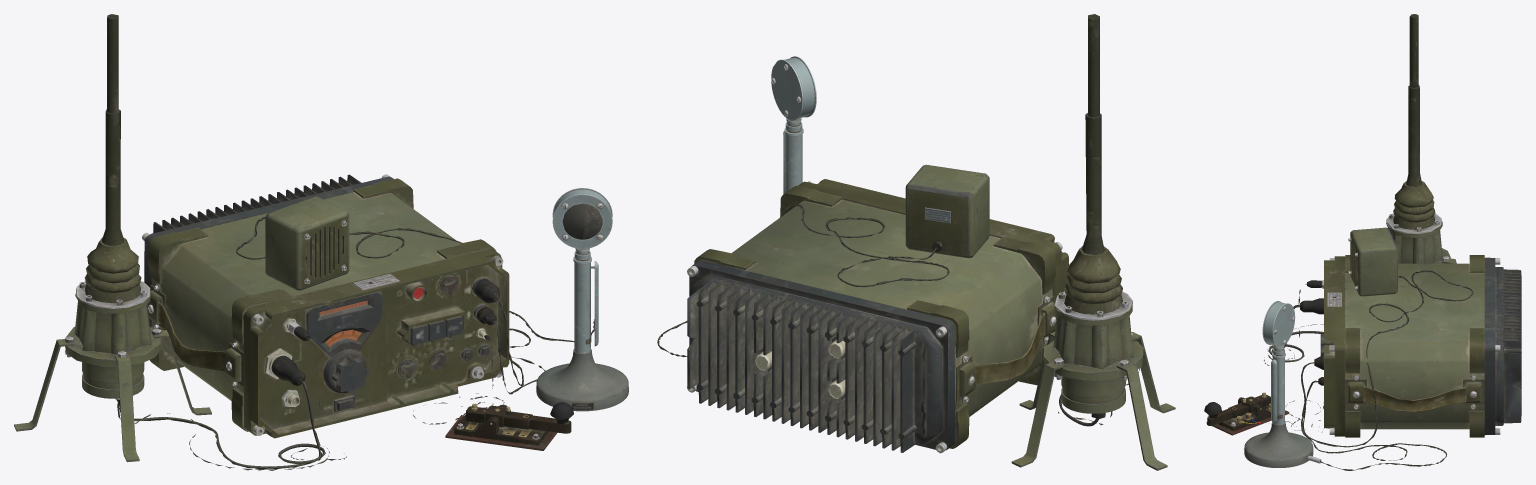
Rendered from vintage_radio_transceiver.glb.
3 views of the same model, side by side, from view 1: azimuth 30°, elevation 25°; view 2: azimuth 150°, elevation 25°; view 3: azimuth 270°, elevation 25° (orthographic). The views are drawn at different scales.
Visible parts, largest first — view 1: vintage_radio_transceiver, vintage_radio_transceiver_antenna, vintage_radio_transceiver_microphone, vintage_radio_transceiver_speaker, vintage_radio_transceiver_cables, vintage_radio_transceiver_morse_key_base, vintage_radio_transceiver_morse_key_arm, vintage_radio_transceiver_dial, vintage_radio_transceiver_antenna_plug_a; view 2: vintage_radio_transceiver, vintage_radio_transceiver_antenna, vintage_radio_transceiver_speaker, vintage_radio_transceiver_microphone, vintage_radio_transceiver_cables; view 3: vintage_radio_transceiver, vintage_radio_transceiver_antenna, vintage_radio_transceiver_microphone, vintage_radio_transceiver_speaker, vintage_radio_transceiver_cables, vintage_radio_transceiver_morse_key_arm, vintage_radio_transceiver_morse_key_base.
Boxes of the visible parts, x1,y1,x2,y2 form: vintage_radio_transceiver: [142, 174, 509, 438]; vintage_radio_transceiver_antenna: [14, 14, 211, 462]; vintage_radio_transceiver_microphone: [536, 188, 628, 411]; vintage_radio_transceiver_speaker: [265, 196, 349, 290]; vintage_radio_transceiver_cables: [117, 217, 574, 470]; vintage_radio_transceiver_morse_key_base: [445, 404, 557, 450]; vintage_radio_transceiver_morse_key_arm: [466, 402, 573, 433]; vintage_radio_transceiver_dial: [323, 329, 369, 393]; vintage_radio_transceiver_antenna_plug_a: [271, 355, 305, 385]; vintage_radio_transceiver: [687, 179, 1068, 453]; vintage_radio_transceiver_antenna: [1011, 14, 1175, 470]; vintage_radio_transceiver_speaker: [905, 164, 989, 258]; vintage_radio_transceiver_microphone: [771, 56, 816, 194]; vintage_radio_transceiver_cables: [657, 204, 1139, 426]; vintage_radio_transceiver: [1324, 255, 1521, 437]; vintage_radio_transceiver_antenna: [1386, 14, 1456, 263]; vintage_radio_transceiver_microphone: [1244, 301, 1321, 467]; vintage_radio_transceiver_speaker: [1348, 227, 1397, 296]; vintage_radio_transceiver_cables: [1264, 270, 1473, 470]; vintage_radio_transceiver_morse_key_arm: [1204, 392, 1270, 425]; vintage_radio_transceiver_morse_key_base: [1206, 397, 1289, 435].
Bounding box in the file's own units: 0.574 × 0.4344 × 0.4131.
Materials: 2 (2 with a texture image).
